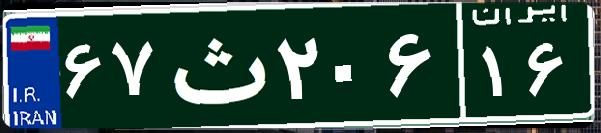0: (330, 28, 385, 110)
1: (475, 38, 525, 113)
2: (273, 28, 330, 110)
6: (385, 28, 445, 110), (57, 26, 110, 107), (525, 38, 570, 115)
7: (110, 28, 158, 105)
ث: (158, 15, 273, 115)
